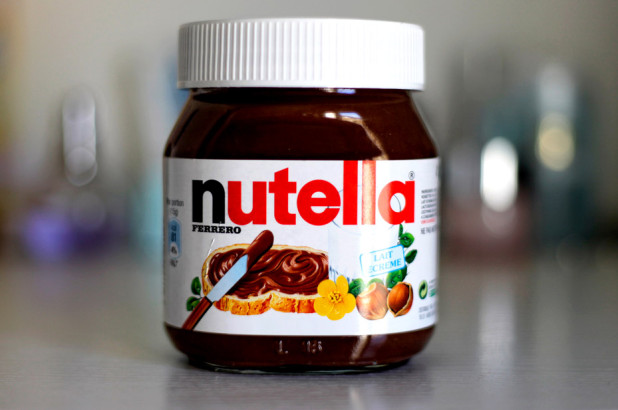nutella: (161, 15, 440, 375)
